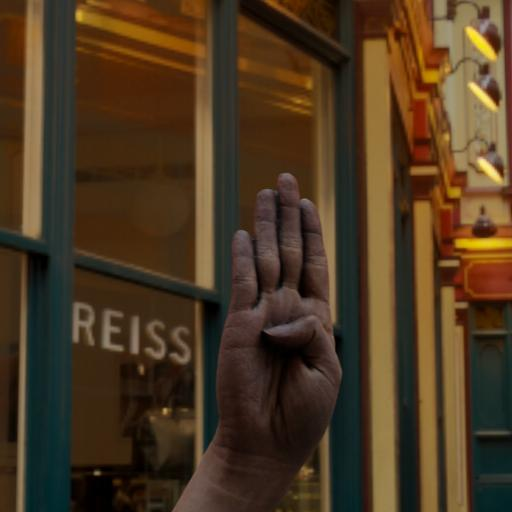B: (205, 169, 350, 478)
